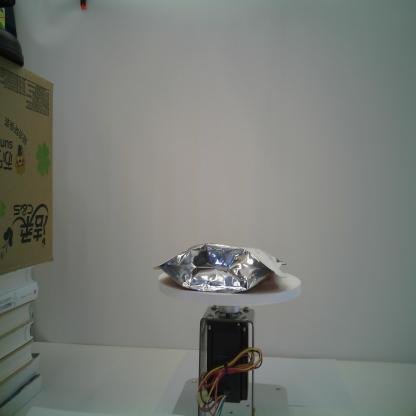Dried Fruit: (152, 242, 287, 294)
